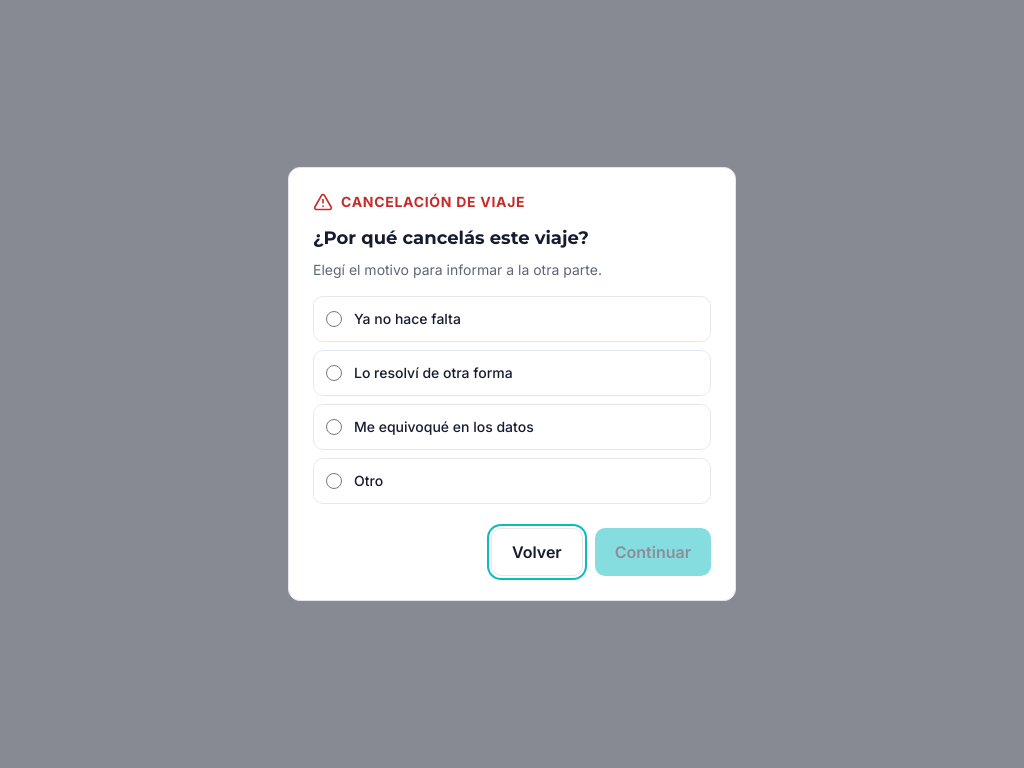
Scenario: T-362: TripCancelDialog por rol › Rol Comercio (actor="merchant") › copy de confirmación en paso 2 advierte sobre cancelación definitiva
Click the radio button labelled "Ya no hace falta": coordinates (334, 319) [326,311,342,327]
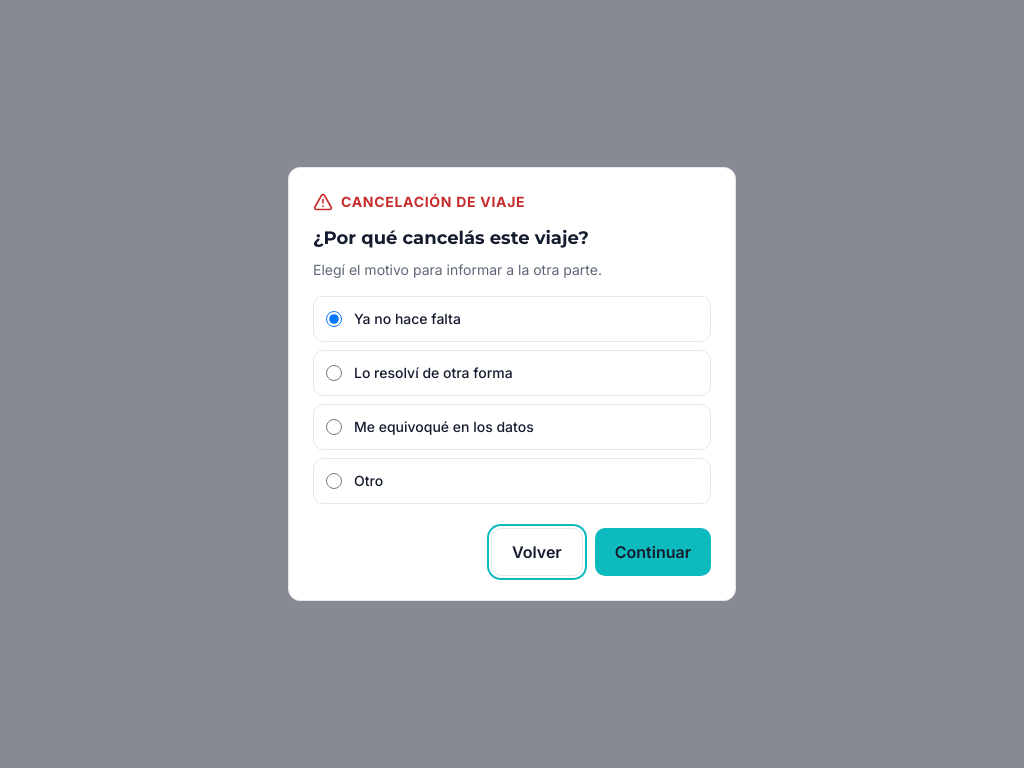
Click the button "Continuar": coordinates (653, 552) [595,528,711,576]
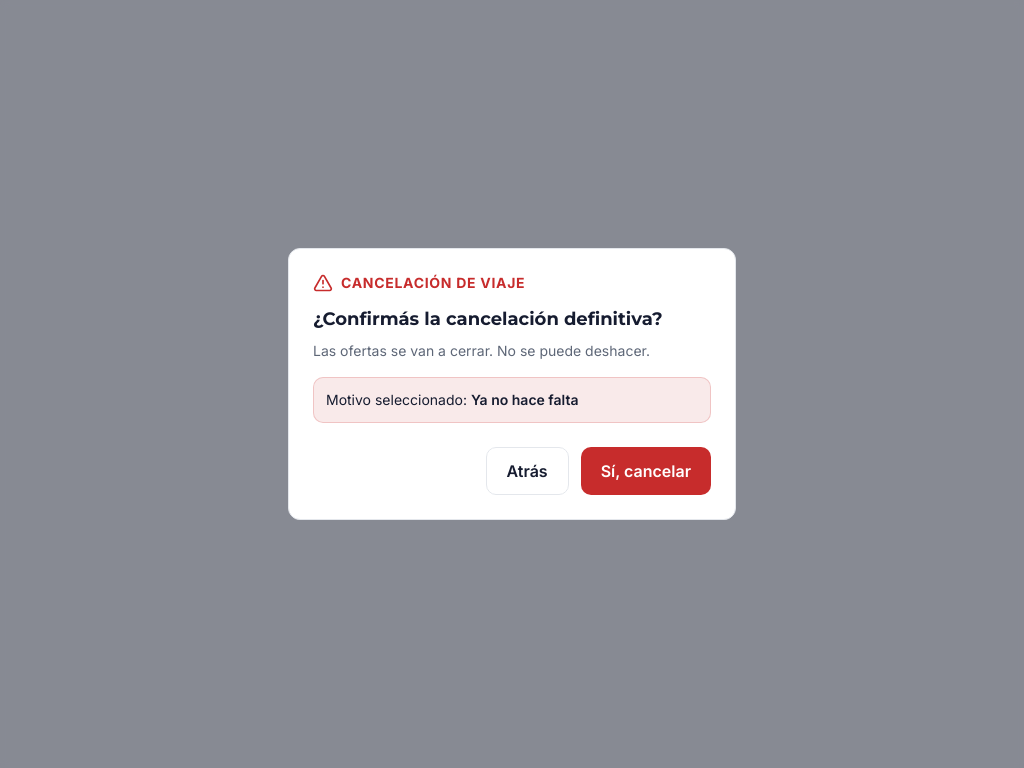
Expected: the heading "¿Confirmás la cancelación definitiva?" is shown, [313,305,711,333]
Expected: the text "Las ofertas se van a cerrar. No se puede deshacer." is shown, [313,342,650,359]
